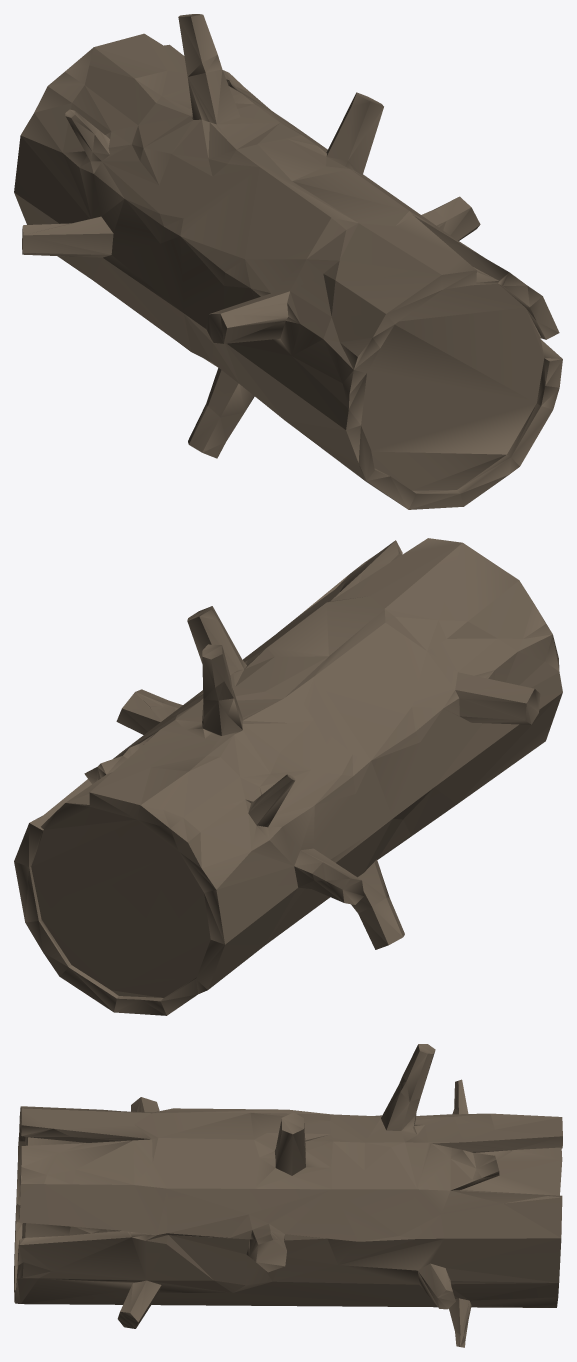
File: mdvl_nature_log_01.glb
3 views of the same model, one above another, from view 1: azimuth 30°, elevation 25°; view 2: azimuth 150°, elevation 25°; view 3: azimuth 270°, elevation 25° (orthographic). The views are drawn at different scales.
Visible parts, largest first — view 1: mdvl_nature_log_01; view 2: mdvl_nature_log_01; view 3: mdvl_nature_log_01.
Boxes of the visible parts, <box> form: mdvl_nature_log_01: <box>14,14,562,509</box>; mdvl_nature_log_01: <box>14,538,562,1015</box>; mdvl_nature_log_01: <box>14,1044,562,1347</box>.
Size of the model in its own units: 1.53 by 1.49 by 2.6.
1 material, 1 textured.
